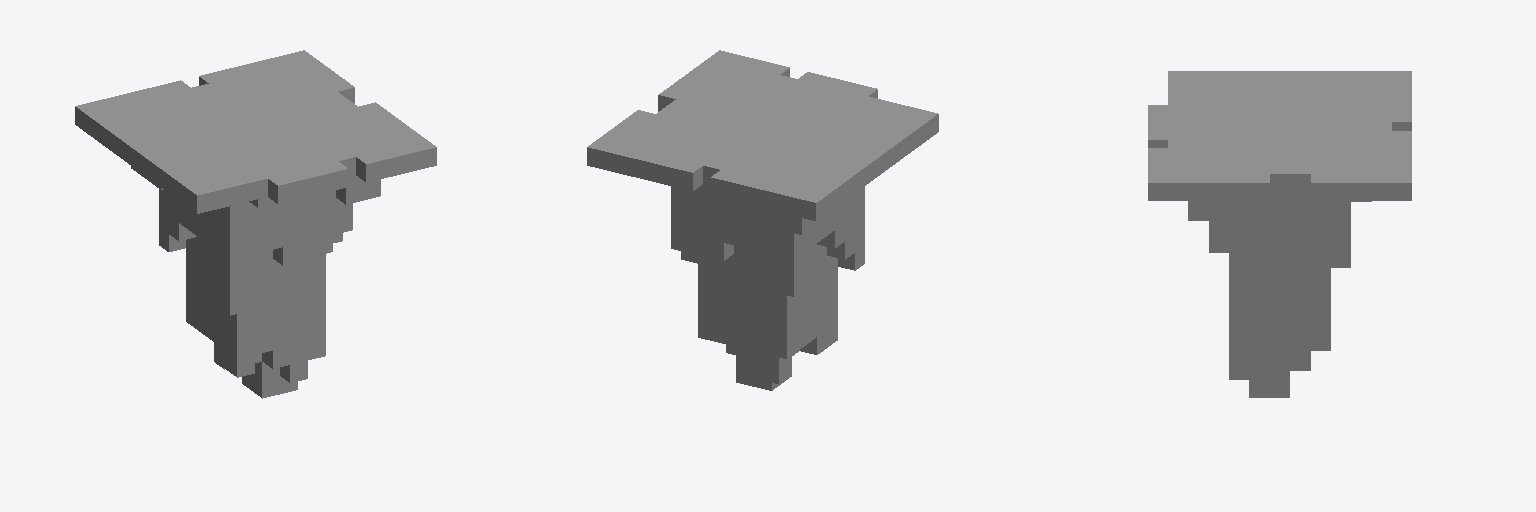
File: Home.obj
3 renders of one model, left to right at view 1: azimuth 30°, elevation 25°; view 2: azimuth 150°, elevation 25°; view 3: azimuth 270°, elevation 25°, orthographic.
Bounding box in the file's own units: 13 × 14 × 13.